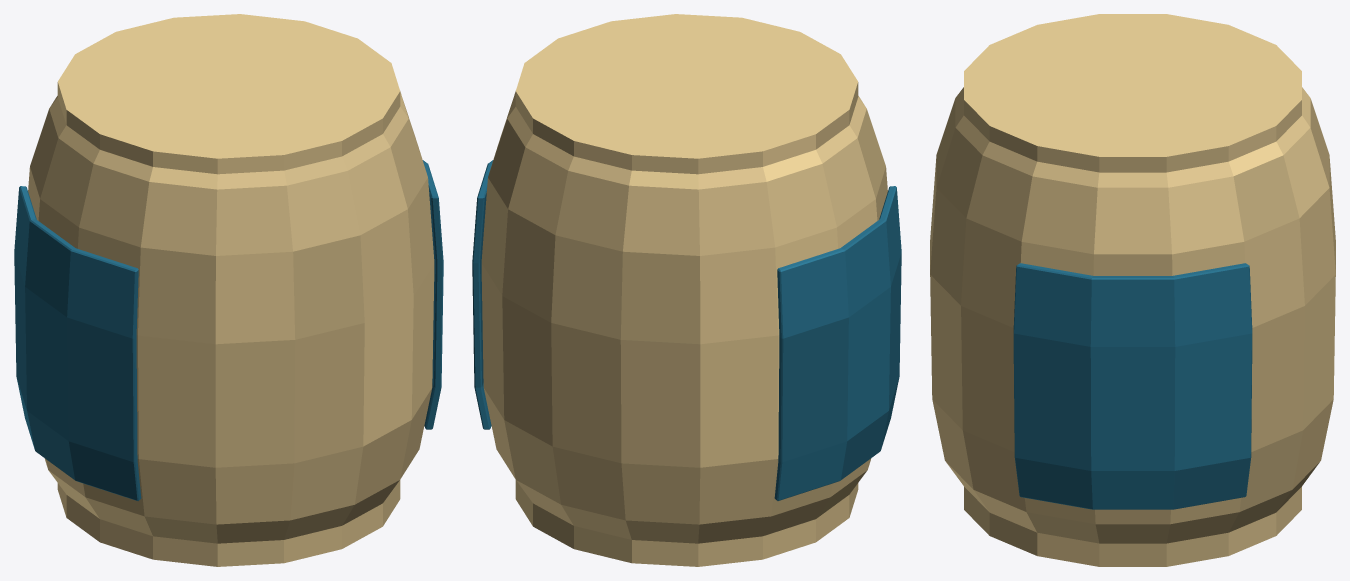
Rendered from QR_FormedCabin.fbx.
3 renders of one model, left to right at view 1: azimuth 30°, elevation 25°; view 2: azimuth 150°, elevation 25°; view 3: azimuth 270°, elevation 25°, orthographic.
Parts seen in each view (by area): view 1: QR_FormedCabin; view 2: QR_FormedCabin; view 3: QR_FormedCabin.
Part boxes in pixels (x1,y1,x2,y2): QR_FormedCabin: [14, 14, 443, 566]; QR_FormedCabin: [472, 14, 901, 566]; QR_FormedCabin: [930, 14, 1335, 566].
Bounding box in the file's own units: 0.9847 × 1.05 × 0.9416.
Materials: 2 (2 with a texture image).
